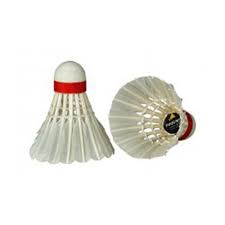shuttle: (35, 63, 110, 166), (116, 77, 197, 156)
